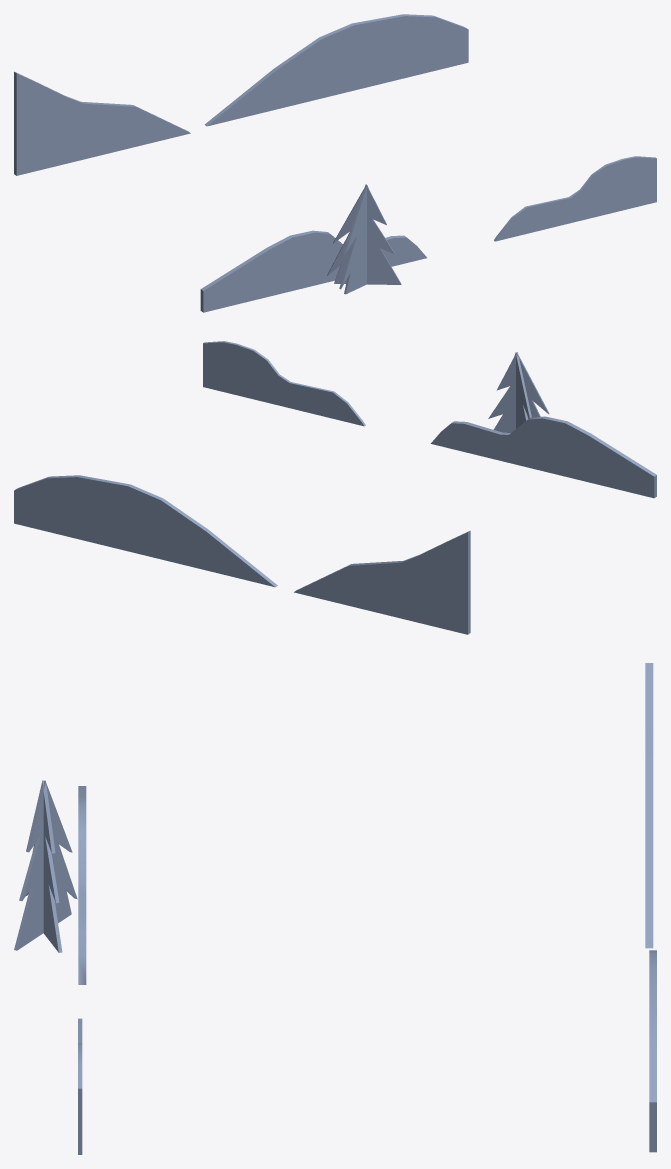
The model's file is frame_0101.glb.
The picture shows the model from 3 angles, top to bottom: view 1: azimuth 30°, elevation 25°; view 2: azimuth 150°, elevation 25°; view 3: azimuth 270°, elevation 25°; orthographic projection. The views are drawn at different scales.
Visible parts, largest first — view 1: export_trees_001.002; view 2: export_trees_001.002; view 3: export_trees_001.002.
Part boxes in pixels (x1,y1,x2,y2): export_trees_001.002: (14,14,656,312); export_trees_001.002: (14,341,656,634); export_trees_001.002: (14,663,656,1154).
Size of the model in its own units: 0.4327 by 0.0936 by 0.35.
